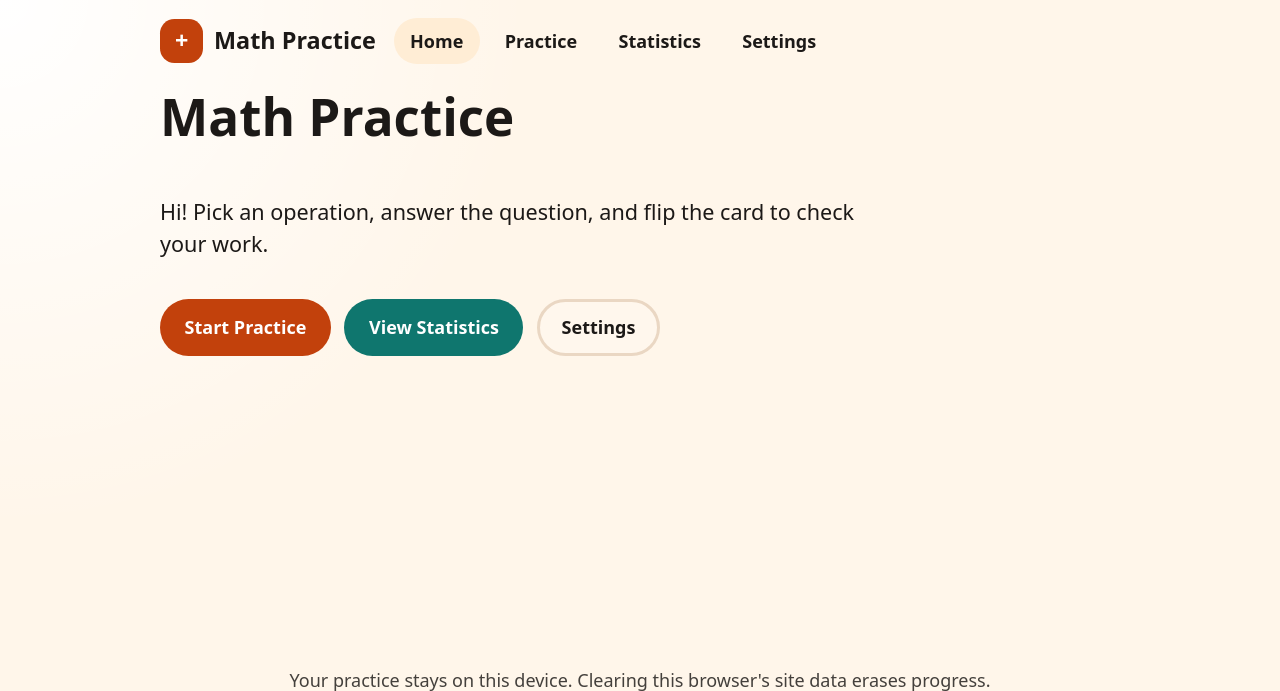
Scenario: App › navigates between home, statistics, and settings
The image size is (1280, 691).
Click the button "View Statistics": [434, 327] box [344,299,524,356]
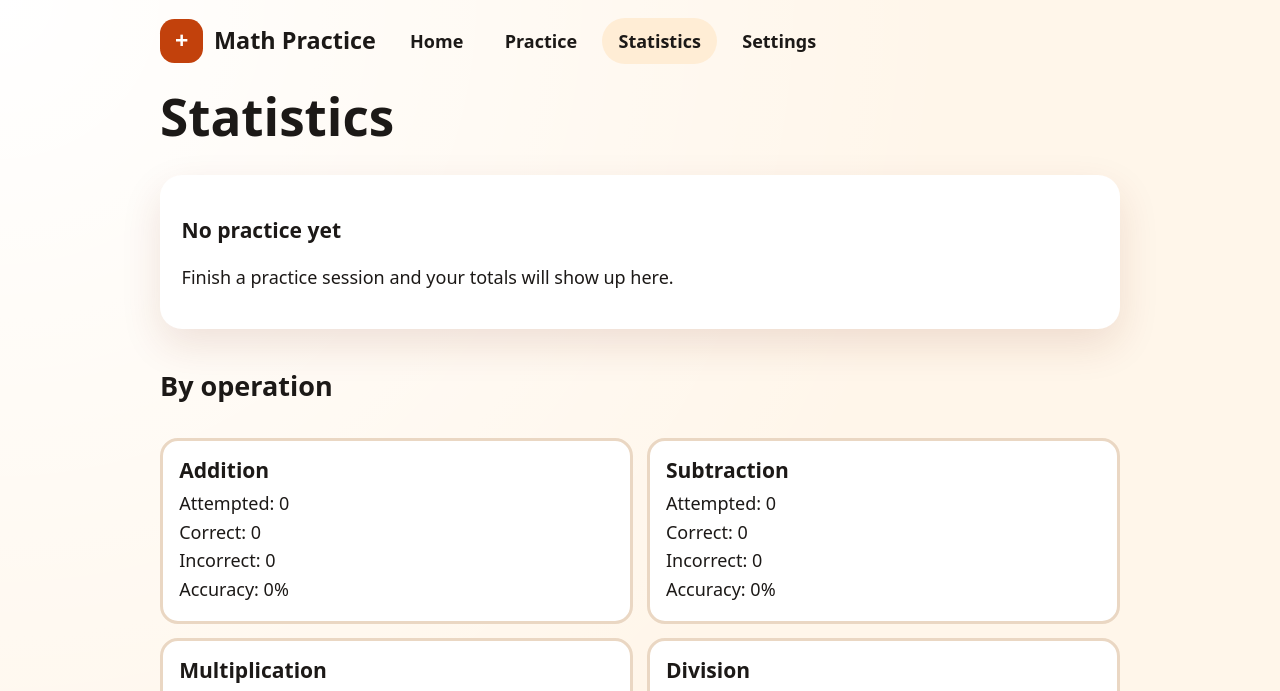
Check: the heading "Statistics" is shown, box [160,81,394,151]
Click the link "Settings": [779, 41] box [742,29,816,53]
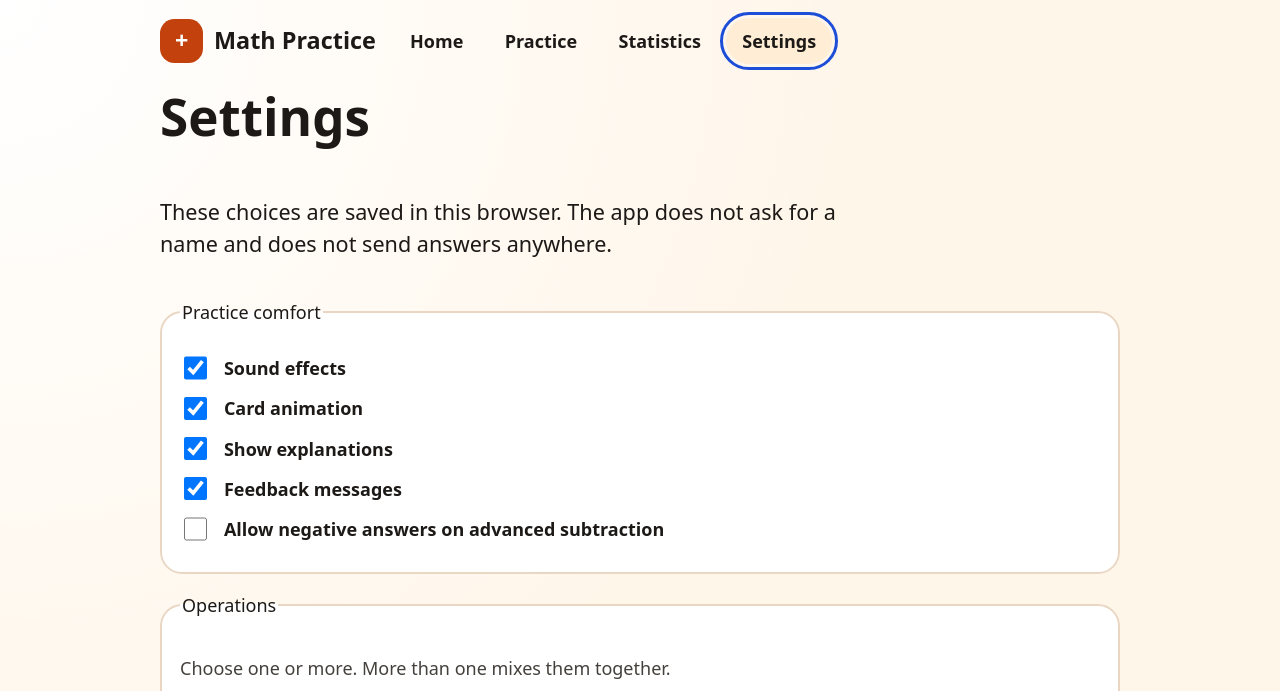
Check: the heading "Settings" is shown, box [160,81,370,151]
Click the link "Home": [437, 41] box [410,29,463,53]
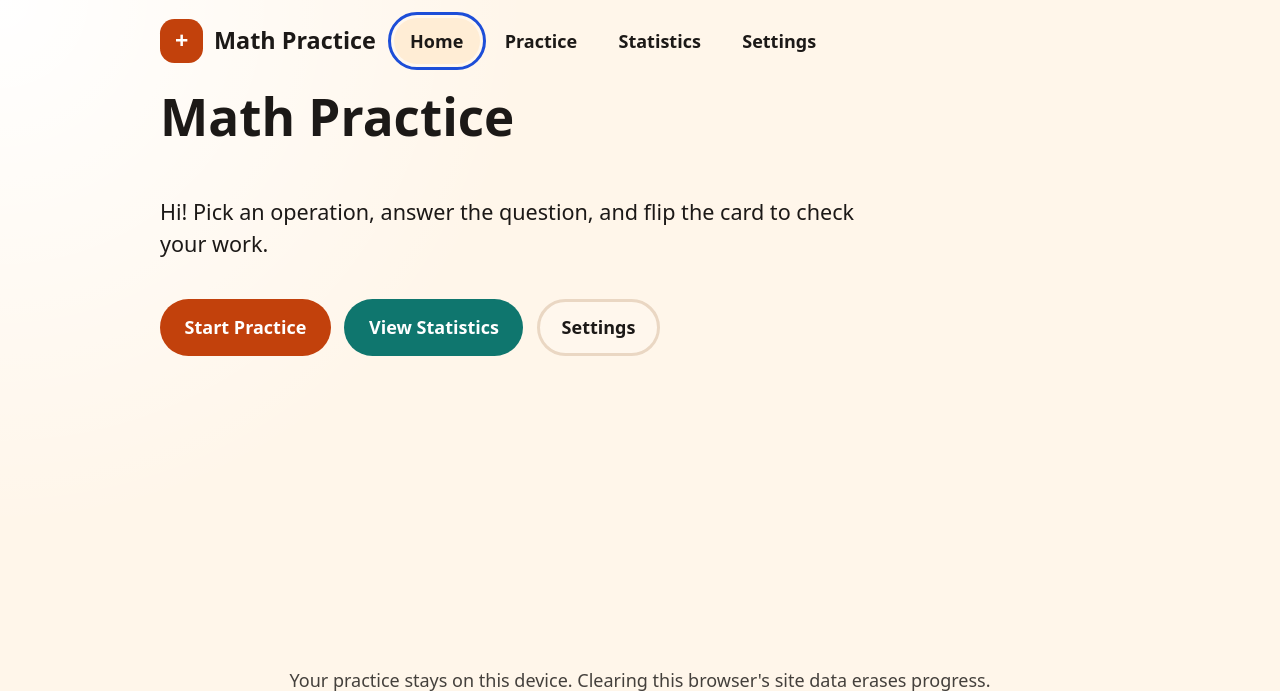
Check: the heading "Math Practice" is shown, box [160,81,514,151]
